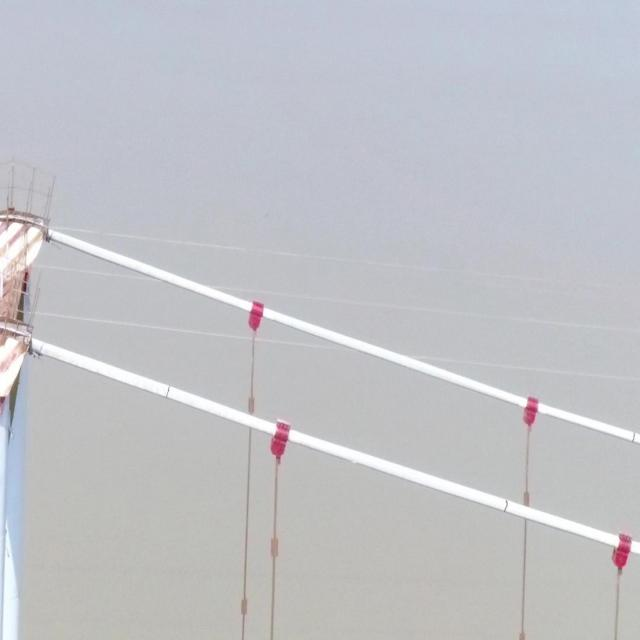crack: (164, 384, 170, 398), (502, 501, 509, 512), (631, 432, 636, 442)
